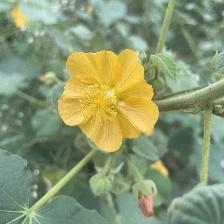indian mallow: (55, 50, 165, 152)
